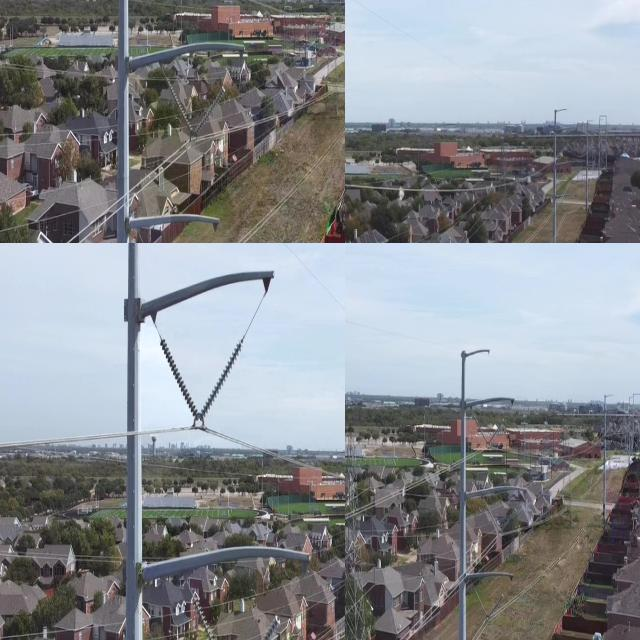杆塔: (345, 422, 377, 640)
正常绝缘子: (192, 326, 254, 437), (154, 330, 205, 430), (185, 76, 230, 148), (162, 70, 199, 142), (185, 584, 220, 640), (256, 604, 289, 640), (484, 500, 502, 536), (486, 416, 505, 447), (498, 507, 518, 536), (473, 585, 490, 619), (473, 413, 490, 446), (486, 592, 505, 619)
